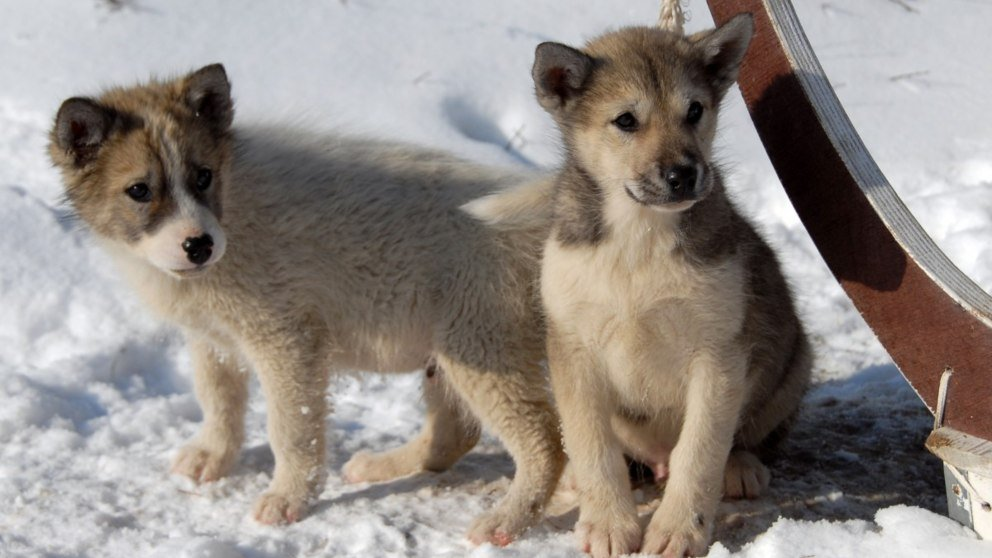Lobo: (39, 57, 474, 497), (479, 18, 824, 548)
